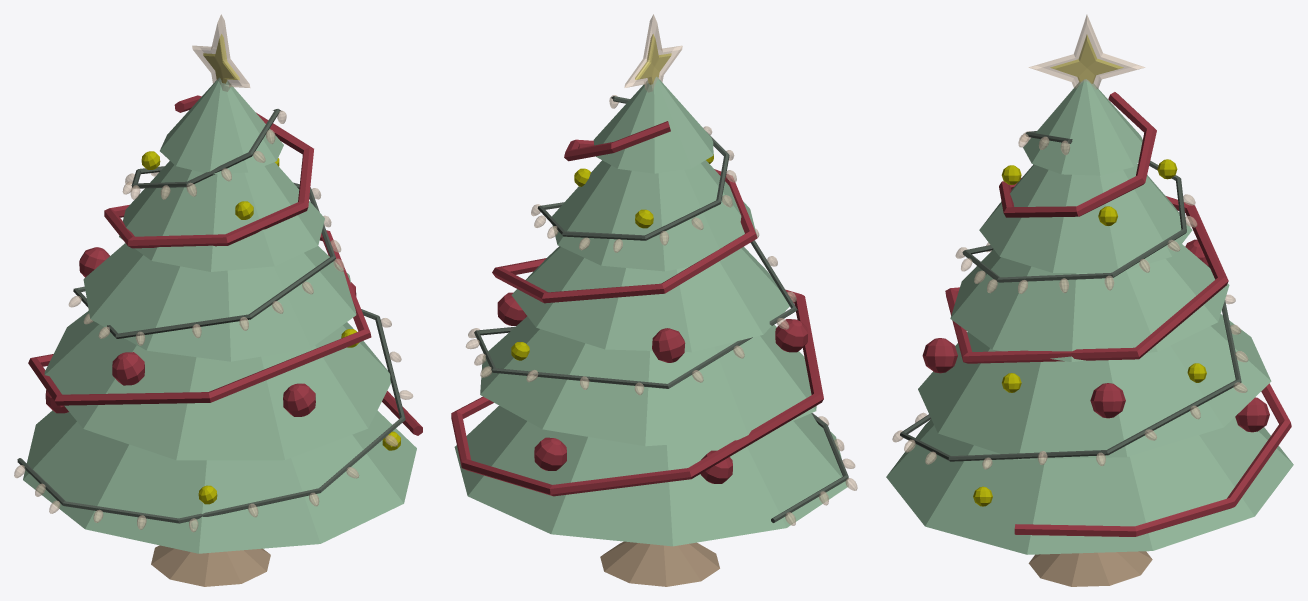
File: Arbol Navideño 1 ver 2.fbx
The picture shows the model from 3 angles, left to right: view 1: azimuth 30°, elevation 25°; view 2: azimuth 150°, elevation 25°; view 3: azimuth 270°, elevation 25°; orthographic projection.
Visible parts, largest first — view 1: Arbol_Navideño_1_ver_2; view 2: Arbol_Navideño_1_ver_2; view 3: Arbol_Navideño_1_ver_2.
Part boxes in pixels (<box>): Arbol_Navideño_1_ver_2: <box>14,14,422,586</box>; Arbol_Navideño_1_ver_2: <box>451,14,857,586</box>; Arbol_Navideño_1_ver_2: <box>886,14,1293,586</box>.
Size of the model in its own units: 4 by 5.72 by 3.82.
